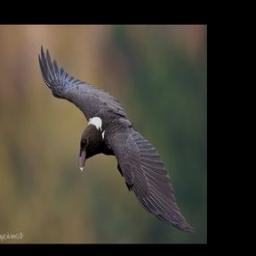Crow: (38, 43, 196, 237)
